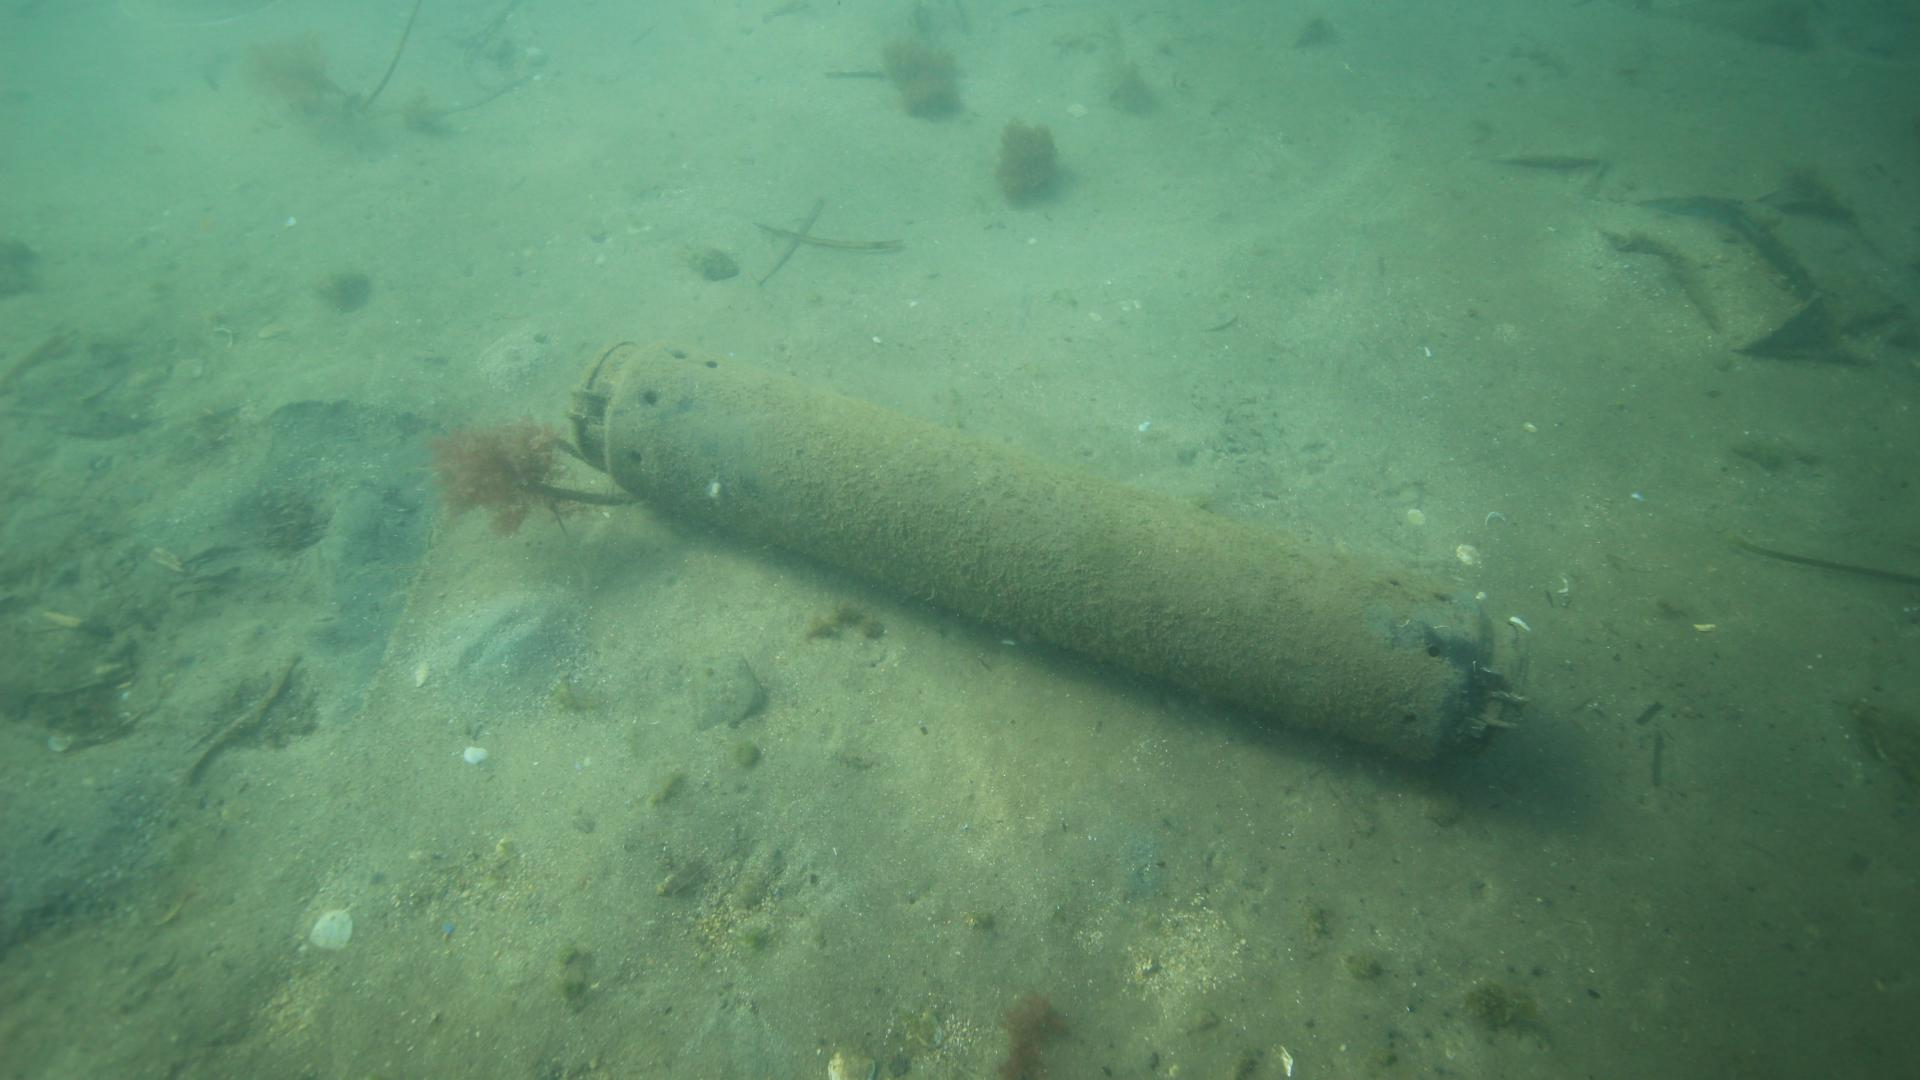eel fish trap: (566, 339, 1519, 767)
